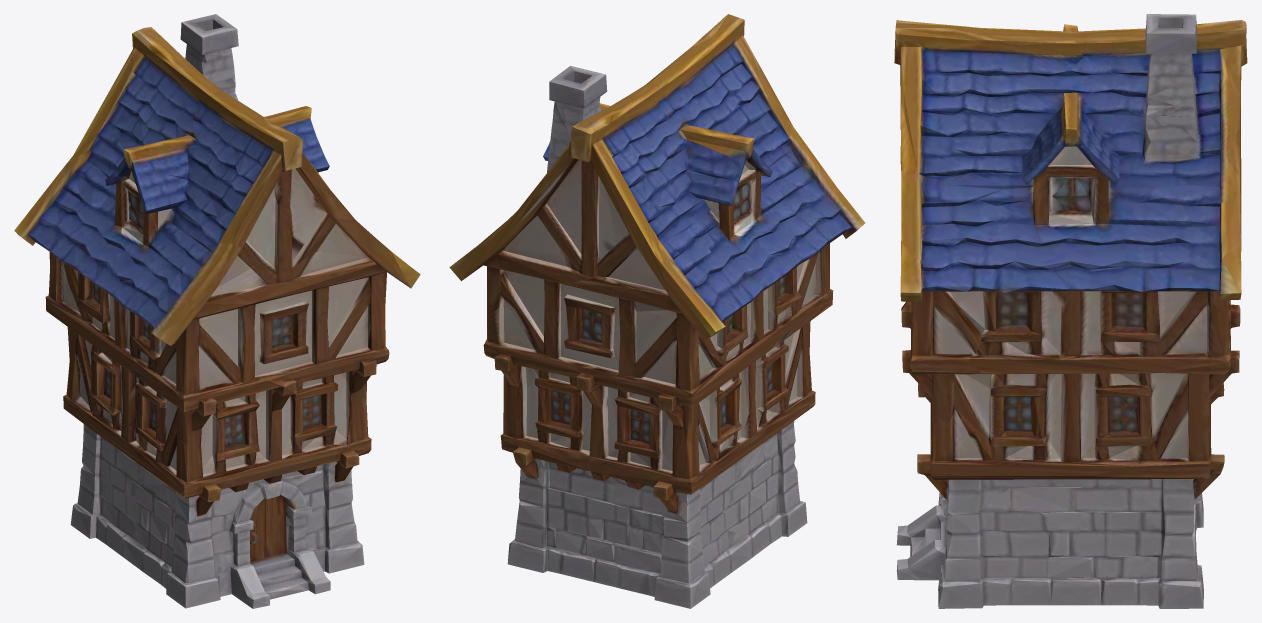
Rendered from oc_house_tall.glb.
3 renders of one model, left to right at view 1: azimuth 30°, elevation 25°; view 2: azimuth 150°, elevation 25°; view 3: azimuth 270°, elevation 25°, orthographic. The views are drawn at different scales.
Parts seen in each view (by area): view 1: W_city_house_tall; view 2: W_city_house_tall; view 3: W_city_house_tall.
Boxes of the visible parts, <box> form: W_city_house_tall: <box>14,14,420,608</box>; W_city_house_tall: <box>449,14,865,608</box>; W_city_house_tall: <box>894,14,1247,608</box>.
Size of the model in its own units: 9.14 by 15.99 by 9.21.
Materials: 1 (1 with a texture image).
